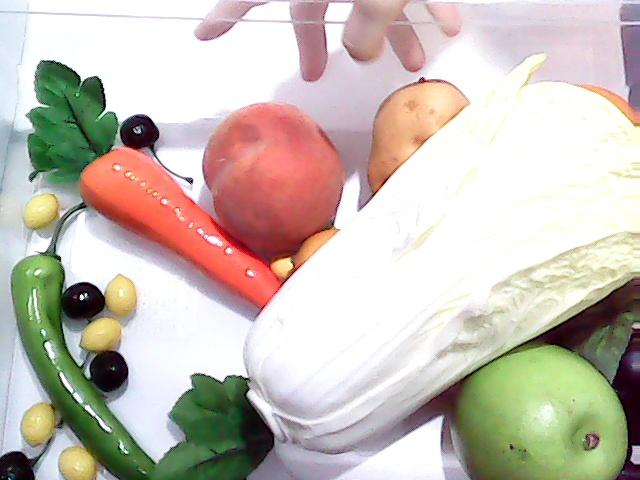apple: (448, 336, 628, 480), (450, 346, 626, 480)
carrot: (30, 60, 282, 311)
lemon: (564, 76, 640, 128)
mango: (290, 228, 342, 276)
napa cabbage: (238, 64, 640, 448)
peach: (202, 102, 346, 253)
pepper: (5, 228, 186, 480)
potato: (366, 77, 470, 194)
